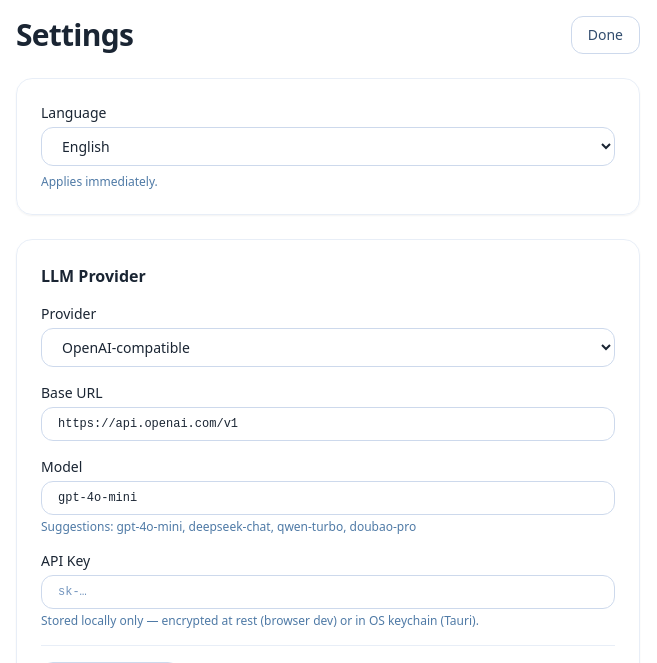
Test: apps/desktop — language switching › switches the UI immediately, without a restart
Expected: the heading "Settings" is shown, [16,17,133,53]
Select "简体中文" in the dropdown with test id "language-select": (328, 146) [41,127,615,166]
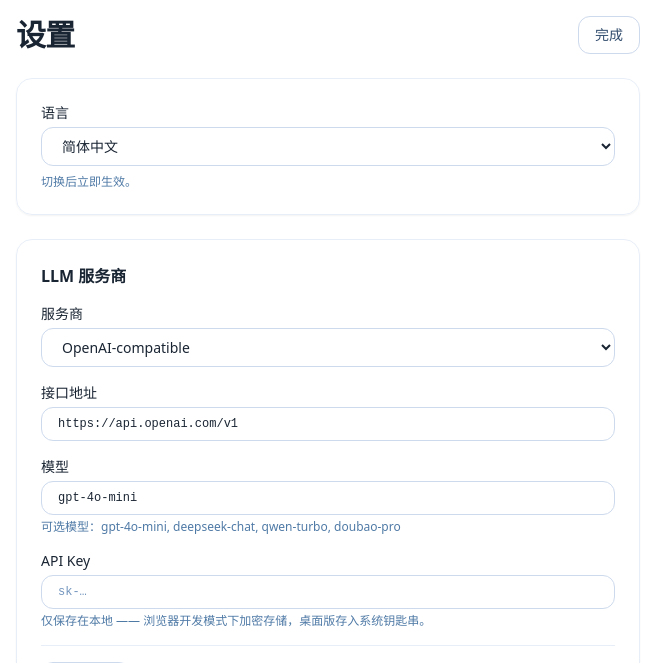
Expected: the heading "设置" is shown, [16,17,74,53]
Expected: the heading "Settings" is gone
